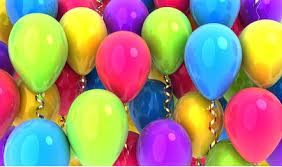Balloon: (7, 13, 68, 94), (66, 89, 128, 167), (182, 23, 242, 98), (223, 88, 282, 163), (95, 31, 152, 98), (3, 118, 69, 167), (141, 7, 187, 75), (59, 7, 105, 74), (239, 19, 282, 88), (137, 119, 193, 167)
